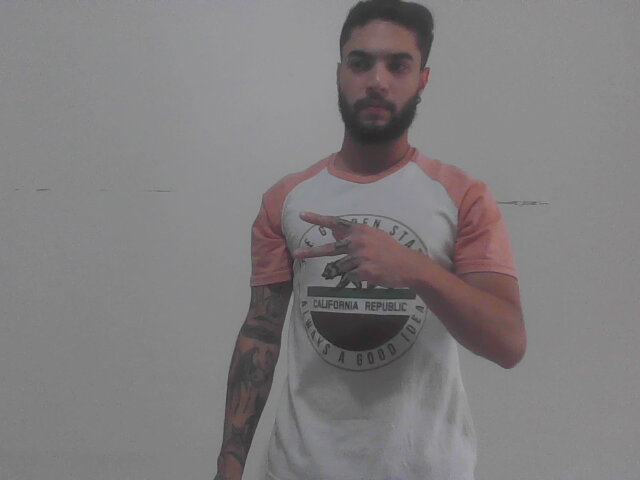p: (286, 200, 423, 300)
